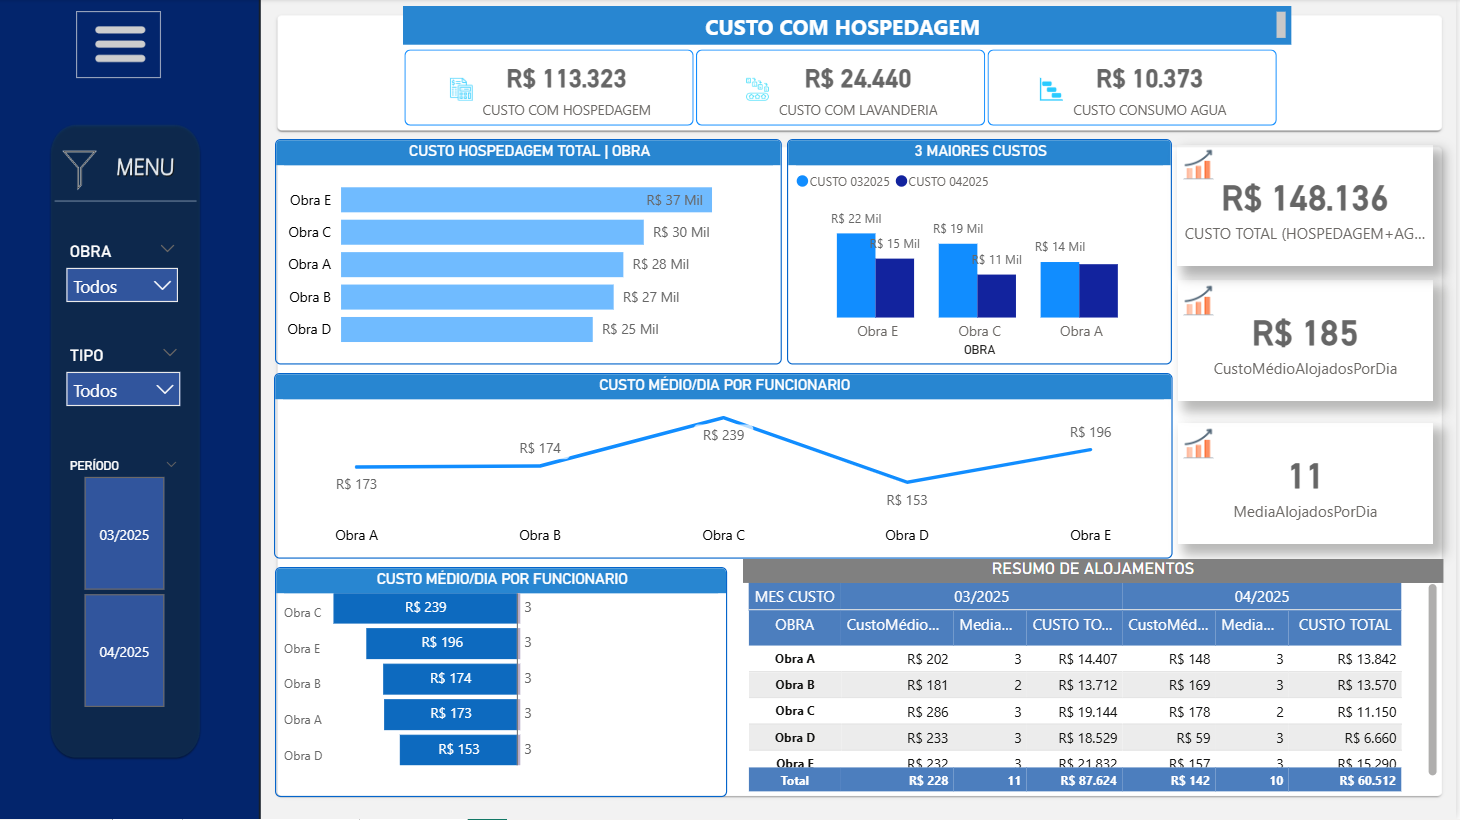

The dashboard page shown, as its layout file describes it:
{"tool":"powerbi","page":{"name":"Consolidada HOSP menu","canvas":[1280,720],"ordinal":1},"visuals":[{"type":"barChart","title":"CUSTO HOSPEDAGEM TOTAL | OBRA","fields":{"Y":["MEDIDAS.CUSTO TOTAL"],"Category":["tb_hipotetica.OBRA"]},"box":[243.2,122.9,445.2,198.4],"z":0},{"type":"card","title":"MÉDIA PESSOAS ALOJADAS/DIA","fields":{"Values":["MEDIDAS MEDIAS.MediaAlojadosPorDia"]},"box":[1036.1,372.3,223.9,106.2],"z":1000},{"type":"clusteredColumnChart","title":"3 MAIORES  CUSTOS","fields":{"Category":["tb_hipotetica.OBRA"],"Y":["MEDIDAS.CUSTO 032025","MEDIDAS.CUSTO 042025"]},"box":[692.8,122.9,338,198.4],"z":2000},{"type":"card","title":"MÉDIA PESSOAS ALOJADAS/DIA","fields":{"Values":["MEDIDAS MEDIAS.CustoMédioAlojadosPorDia"]},"box":[1036.1,246.7,223.9,106.2],"z":3000},{"type":"cardVisual","title":"CUSTO HOSPEDAGEM | TIPO","fields":{"Data":["MEDIDAS.VR HOSPEDAGEM","MEDIDAS.VR LAVANDERIA","MEDIDAS.VR AGUA"]},"box":[346.8,34.2,788.5,87.8],"z":4000},{"type":"textbox","box":[355.6,6.1,779.7,34.2],"z":5000},{"type":"card","title":"MÉDIA PESSOAS ALOJADAS/DIA","fields":{"Values":["MEDIDAS.CUSTO TOTAL"]},"box":[1035.2,128.2,224.8,106.2],"z":6000},{"type":"pivotTable","title":"RESUMO DE ALOJAMENTOS","fields":{"Columns":["CALENDARIO.MES CUSTO"],"Rows":["tb_hipotetica.OBRA"],"Values":["MEDIDAS MEDIAS.CustoMédioAlojadosPorDia","MEDIDAS MEDIAS.MediaAlojadosPorDia","MEDIDAS.CUSTO TOTAL"]},"box":[654.1,491.7,614.6,209],"z":7000},{"type":"lineStackedColumnComboChart","title":"CUSTO MÉDIO/DIA POR FUNCIONARIO","fields":{"Category":["tb_hipotetica.OBRA","CALENDARIO.MES CUSTO"],"Y2":["MEDIDAS MEDIAS.CustoMédioAlojadosPorDia"]},"box":[242.3,328.4,789.4,163.3],"z":8000},{"type":"image","title":"EXIBI","box":[69.7,9.8,75.6,59.9],"z":9000},{"type":"image","title":"MENU","box":[22.8,103.6,178.2,570.7],"z":10000},{"type":"slicer","title":"TOTAL FUNCIONARIOS | OBRA","fields":{"Values":["tb_hipotetica.OBRA"]},"box":[50,208.1,117.7,77.3],"z":11000},{"type":"slicer","title":"TOTAL FUNCIONARIOS | OBRA","fields":{"Values":["CALENDARIO.MES CUSTO"]},"box":[50.3,398.7,119.8,230.4],"z":12000},{"type":"slicer","title":"TOTAL FUNCIONARIOS | OBRA","fields":{"Values":["tb_hipotetica.TIPO"]},"box":[50.3,299.5,119.8,77.6],"z":13000},{"type":"actionButton","box":[96.6,128.2,59.7,40.4],"z":14000},{"type":"actionButton","box":[57.1,128.2,36,40.4],"z":15000},{"type":"actionButton","box":[68.8,10.8,74.7,58.9],"z":16000},{"type":"image","box":[1036.4,127.7,36.3,36.3],"z":17000},{"type":"image","box":[1036.4,246.6,36.3,36.3],"z":18000},{"type":"image","box":[1036.4,372.3,36.3,36.3],"z":19000},{"type":"TornadoChart1452517688218","title":"CUSTO MÉDIO/DIA POR FUNCIONARIO","fields":{"Category":["tb_hipotetica.OBRA"],"Values":["MEDIDAS MEDIAS.CustoMédioAlojadosPorDia","MEDIDAS MEDIAS.MediaAlojadosPorDia"]},"box":[243.2,498.7,396.9,202],"z":20000}]}

Visuals, with their boxes in screenshot pixels (x1, y1, x2, y2), scaled from the page's 1280x720 canvas onto the 1460x820 screenshot:
"CUSTO HOSPEDAGEM TOTAL | OBRA" barChart: <bbox>277, 140, 785, 366</bbox>
"MÉDIA PESSOAS ALOJADAS/DIA" card: <bbox>1182, 424, 1437, 545</bbox>
"3 MAIORES  CUSTOS" clusteredColumnChart: <bbox>790, 140, 1176, 366</bbox>
"MÉDIA PESSOAS ALOJADAS/DIA" card: <bbox>1182, 281, 1437, 402</bbox>
"CUSTO HOSPEDAGEM | TIPO" cardVisual: <bbox>396, 39, 1295, 139</bbox>
textbox: <bbox>406, 7, 1295, 46</bbox>
"MÉDIA PESSOAS ALOJADAS/DIA" card: <bbox>1181, 146, 1437, 267</bbox>
"RESUMO DE ALOJAMENTOS" pivotTable: <bbox>746, 560, 1447, 798</bbox>
"CUSTO MÉDIO/DIA POR FUNCIONARIO" lineStackedColumnComboChart: <bbox>276, 374, 1177, 560</bbox>
"EXIBI" image: <bbox>80, 11, 166, 79</bbox>
"MENU" image: <bbox>26, 118, 229, 768</bbox>
"TOTAL FUNCIONARIOS | OBRA" slicer: <bbox>57, 237, 191, 325</bbox>
"TOTAL FUNCIONARIOS | OBRA" slicer: <bbox>57, 454, 194, 716</bbox>
"TOTAL FUNCIONARIOS | OBRA" slicer: <bbox>57, 341, 194, 429</bbox>
actionButton: <bbox>110, 146, 178, 192</bbox>
actionButton: <bbox>65, 146, 106, 192</bbox>
actionButton: <bbox>78, 12, 164, 79</bbox>
image: <bbox>1182, 145, 1224, 187</bbox>
image: <bbox>1182, 281, 1224, 322</bbox>
image: <bbox>1182, 424, 1224, 465</bbox>
"CUSTO MÉDIO/DIA POR FUNCIONARIO" TornadoChart1452517688218: <bbox>277, 568, 730, 798</bbox>
